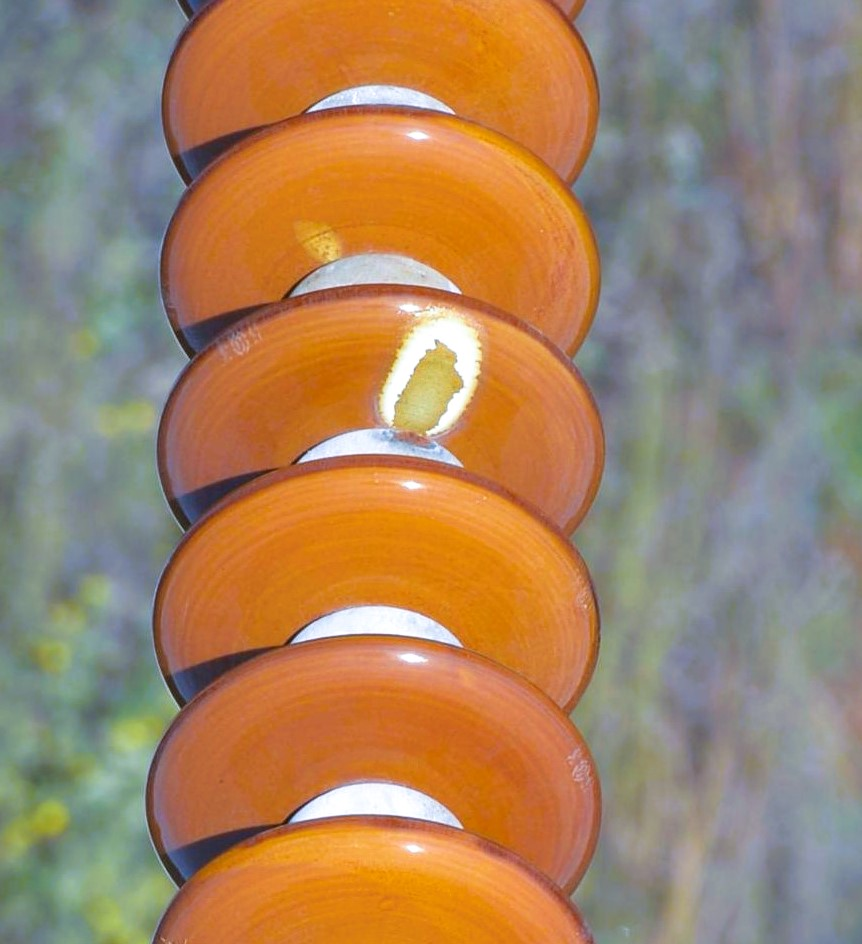Insulator flashover: (150, 276, 614, 563)
